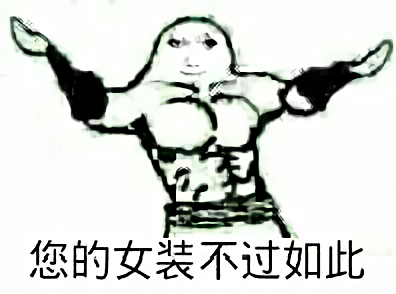dragon: (165, 35, 219, 78)
